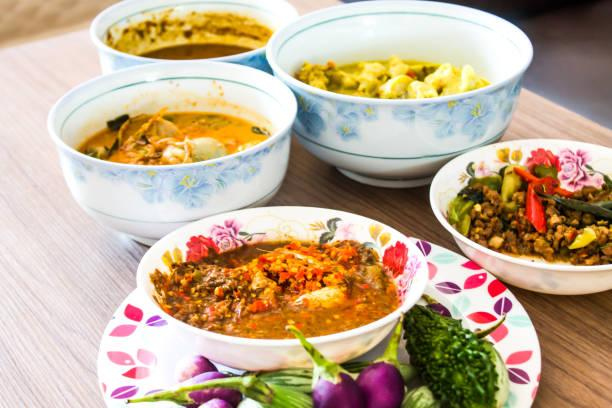Braised Crucian Carp: (270, 0, 530, 188), (134, 206, 423, 372), (48, 62, 297, 247), (430, 139, 608, 293)
